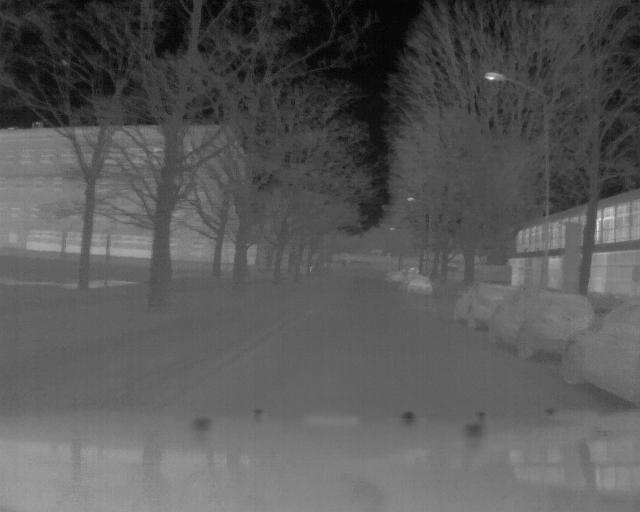car: (487, 287, 601, 359), (452, 282, 515, 330)
